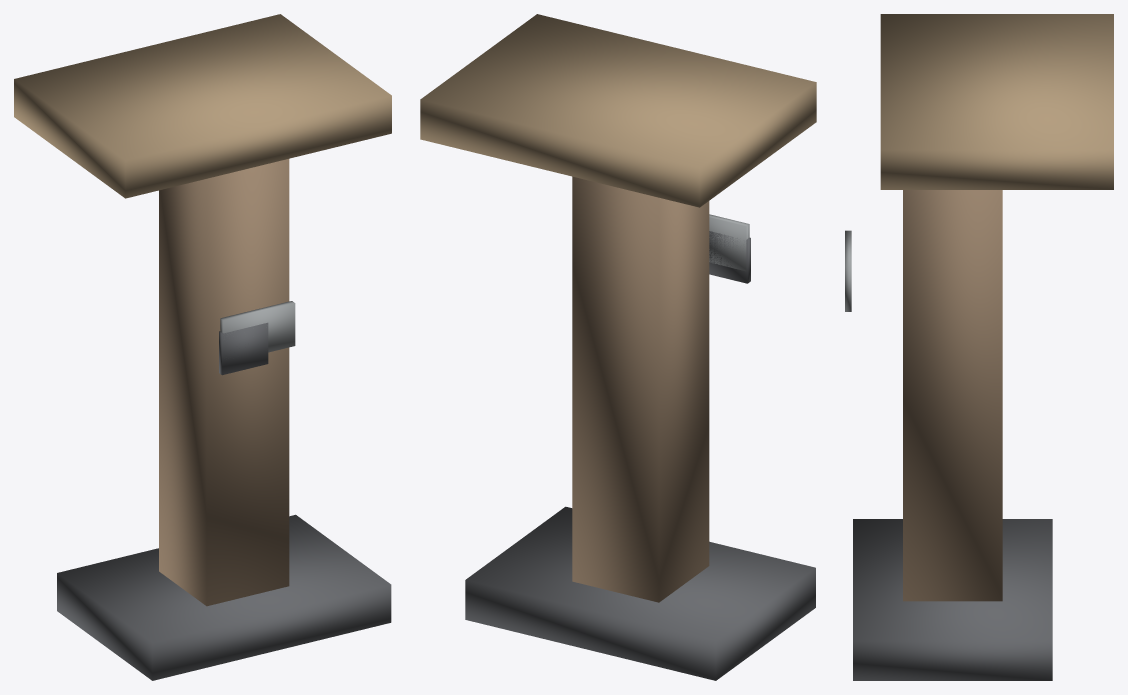
The model's file is lectern__weathered.glb.
3 views of the same model, side by side, from view 1: azimuth 30°, elevation 25°; view 2: azimuth 150°, elevation 25°; view 3: azimuth 270°, elevation 25° (orthographic). The views are drawn at different scales.
Visible parts, largest first — view 1: world; view 2: world; view 3: world.
Boxes of the visible parts, x1,y1,x2,y2 form: world: [14, 14, 391, 680]; world: [420, 14, 816, 680]; world: [845, 14, 1113, 680].
Bounding box in the file's own units: 0.58 × 1.07 × 0.484.
